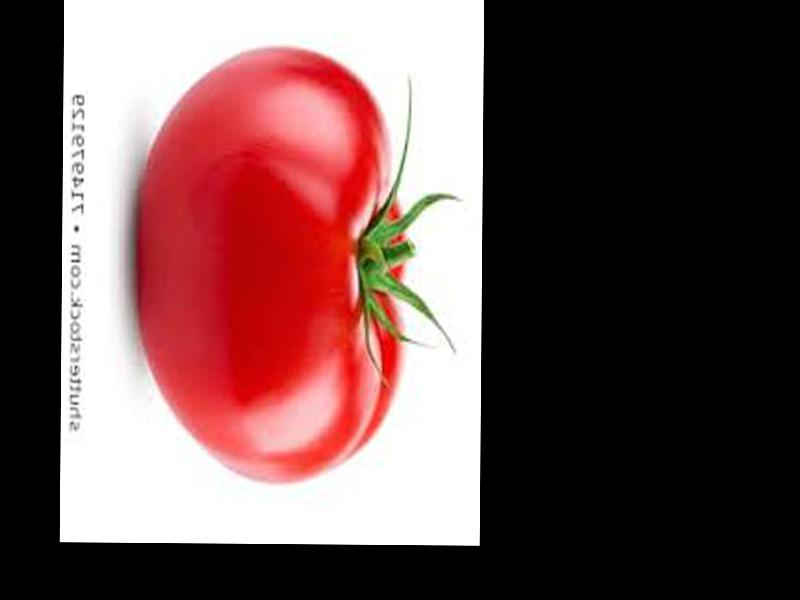Tomato: (137, 46, 403, 485)
